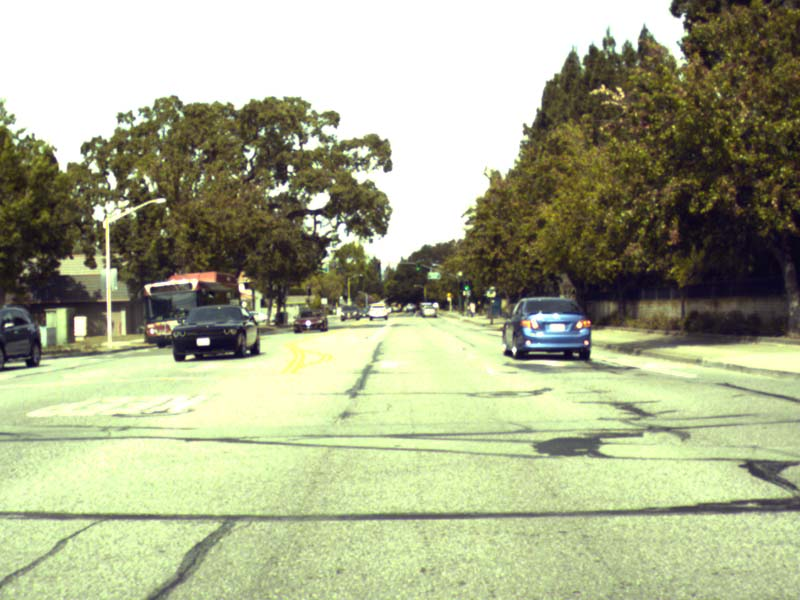Green: (464, 280, 468, 290), (416, 262, 419, 271)
